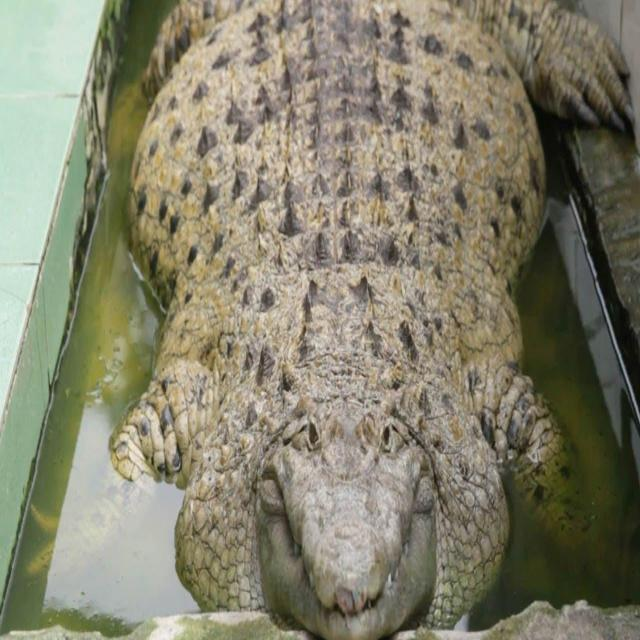crocodile: (105, 0, 634, 639)
